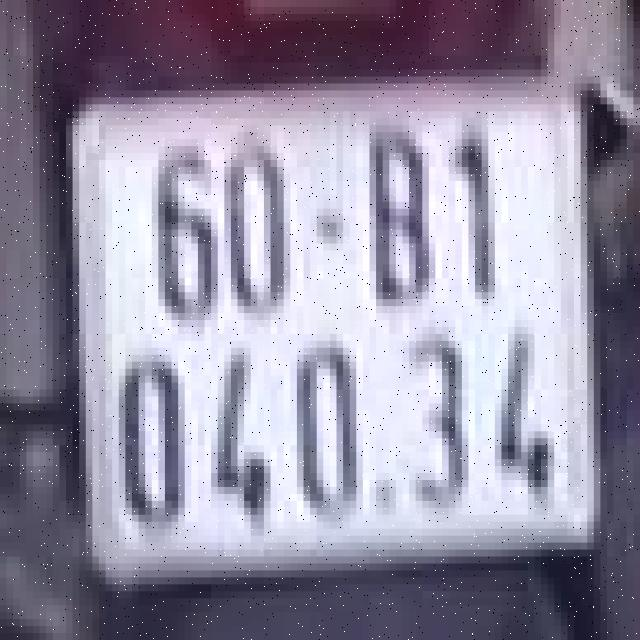0: (102, 338, 195, 539), (287, 327, 366, 543), (221, 125, 300, 320)
1: (442, 122, 508, 310)
3: (403, 320, 475, 543)
4: (198, 331, 277, 532), (492, 310, 564, 511)
6: (138, 125, 224, 327)
B: (356, 111, 429, 313)
